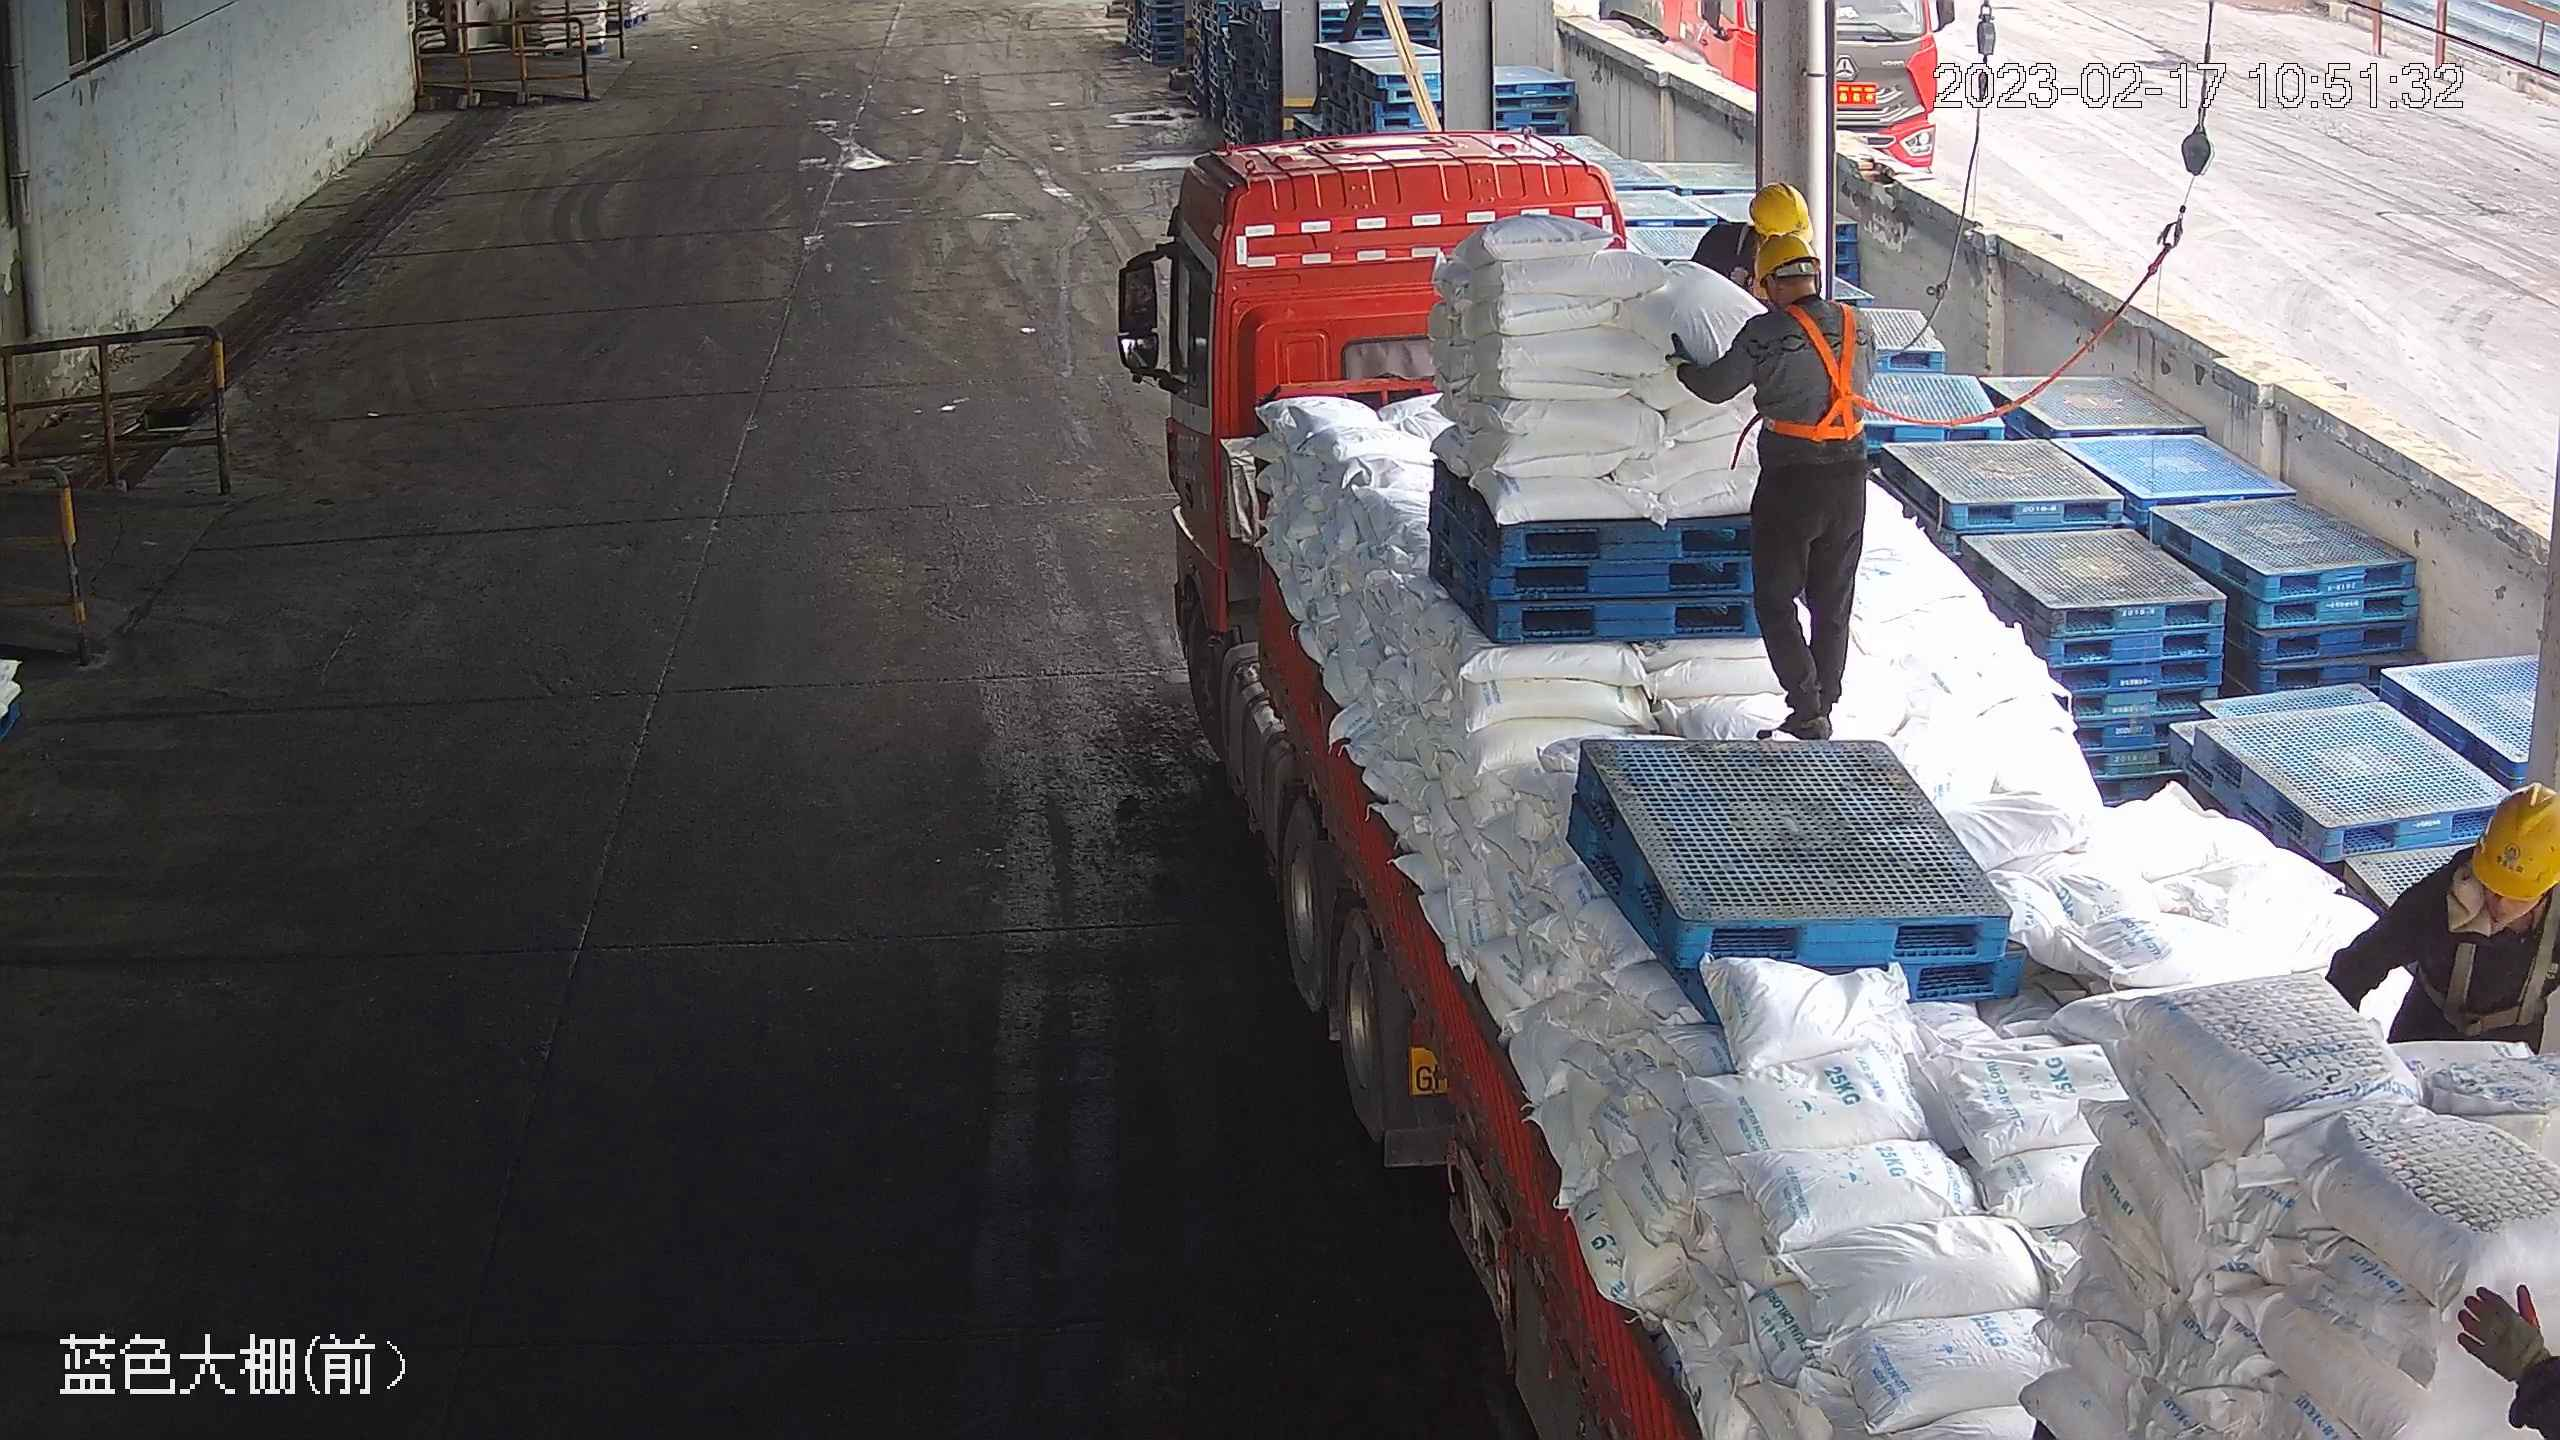belt: (1751, 294, 1887, 442), (2432, 917, 2560, 1035)
head: (2402, 783, 2558, 973), (1736, 228, 1877, 365)
helmet: (2467, 782, 2560, 900), (1744, 177, 1811, 245), (1746, 230, 1817, 288)
people: (1664, 220, 1878, 738)
truck: (1102, 144, 2556, 1440)
